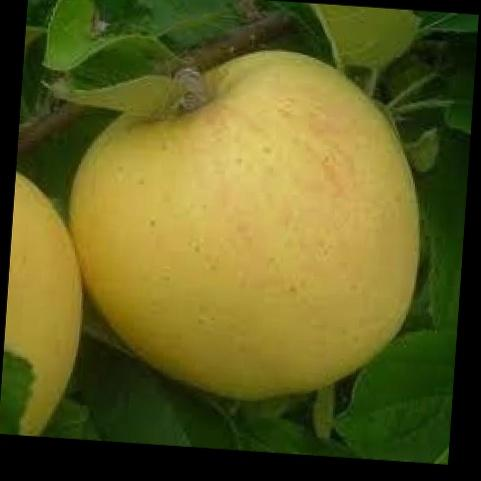green apple: (67, 43, 436, 406)
